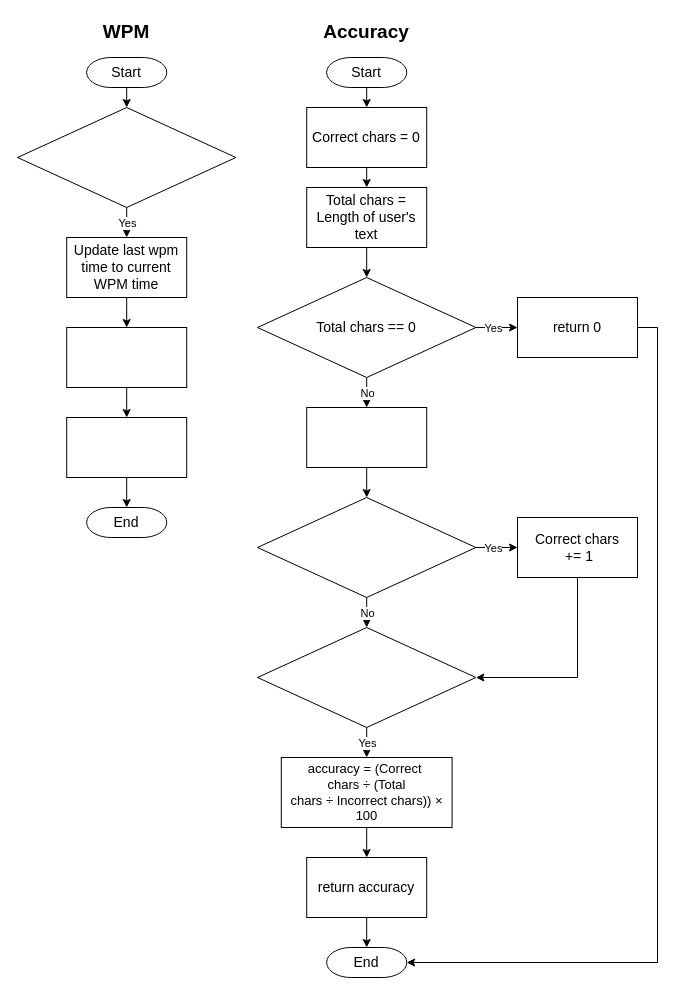
This 683x995 diagram has some shape labels left out. The centre of each missing label's shape, as x and y in pixels:
"Current WPM time does not match last WPM time" goes at point (126, 157).
"Go through each chraracter" goes at point (366, 437).
"Gone through each character in user's text" goes at point (366, 677).
"return WPM" goes at point (126, 447).
"User char == target char" goes at point (366, 547).
"WPM = (Length of user input ÷ 5) ÷ Time in minutes" goes at point (126, 357).
